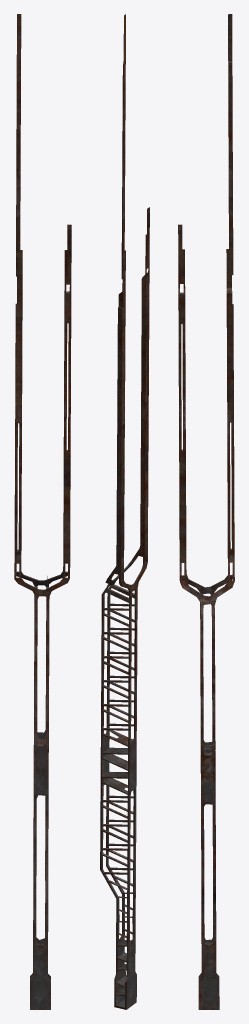
Rendered from SM_Antenna_05.fbx.
3 views of the same model, side by side, from view 1: azimuth 90°, elevation 25°; view 2: azimuth 150°, elevation 25°; view 3: azimuth 270°, elevation 25° (orthographic).
Visible parts, largest first — view 1: SM_Antenna_05_LOD0; view 2: SM_Antenna_05_LOD0; view 3: SM_Antenna_05_LOD0.
Part boxes in pixels (x1,y1,x2,y2): SM_Antenna_05_LOD0: [14, 14, 71, 1009]; SM_Antenna_05_LOD0: [100, 14, 149, 1009]; SM_Antenna_05_LOD0: [178, 14, 234, 1009].
Size of the model in its own units: 18.7 by 28.8 by 553.
1 material, 1 textured.
